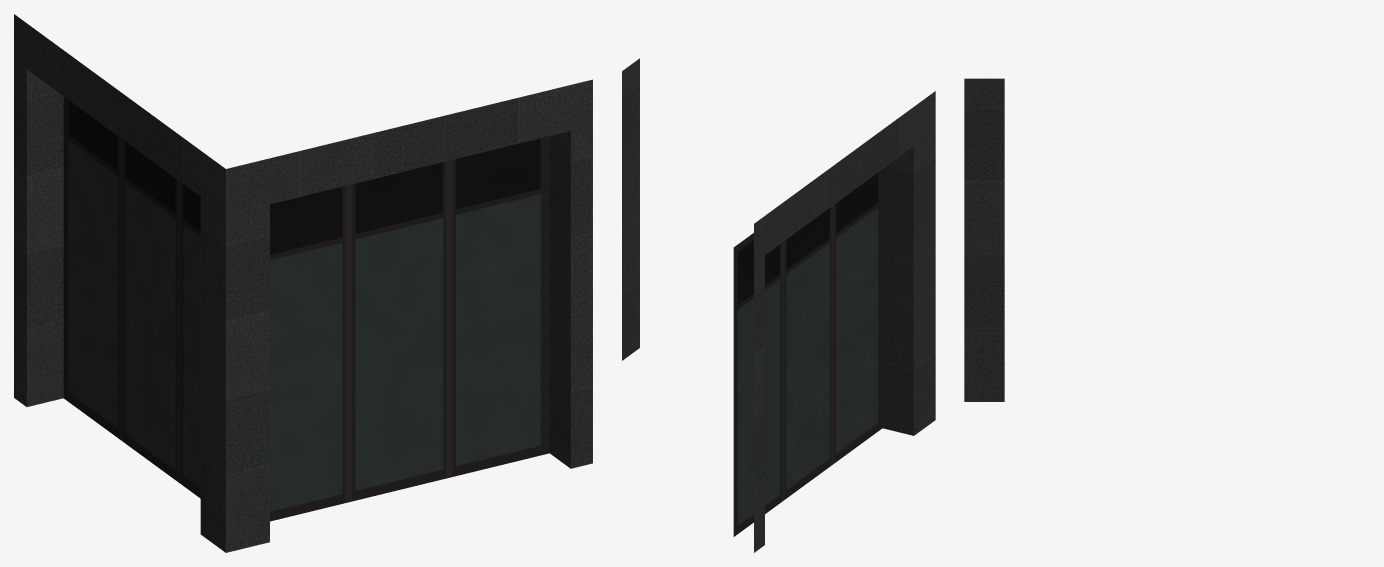
The model's file is corner.gltf.
3 renders of one model, left to right at view 1: azimuth 30°, elevation 25°; view 2: azimuth 150°, elevation 25°; view 3: azimuth 270°, elevation 25°, orthographic. The views are drawn at different scales.
Visible parts, largest first — view 1: corner; view 2: corner; view 3: corner.
Part boxes in pixels (bbox=[...]): corner: bbox=[14, 14, 592, 552]; corner: bbox=[622, 58, 935, 552]; corner: bbox=[964, 78, 1004, 401].
Size of the model in its own units: 5 by 5 by 5.
2 materials, 2 textured.
